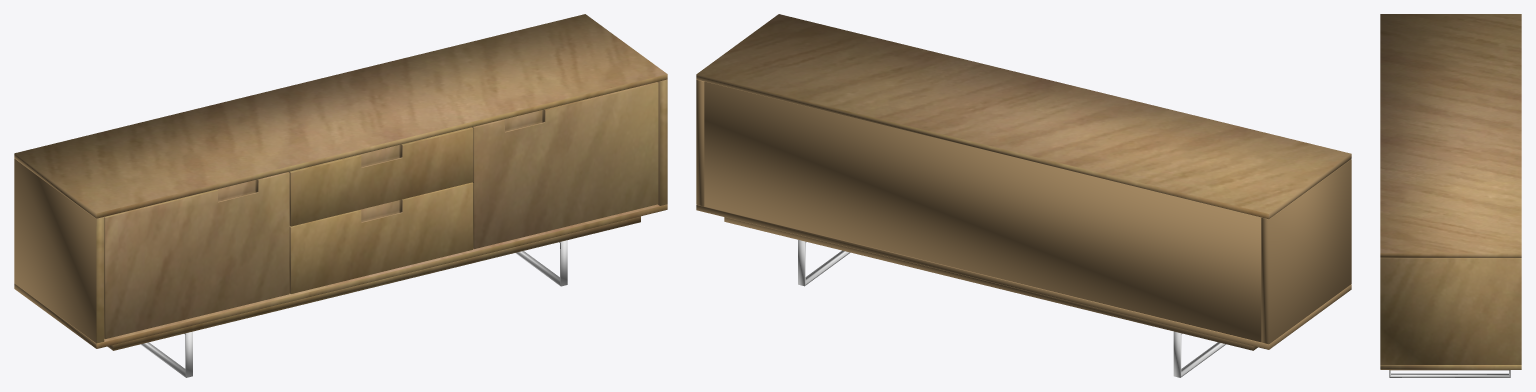
3 renders of one model, left to right at view 1: azimuth 30°, elevation 25°; view 2: azimuth 150°, elevation 25°; view 3: azimuth 270°, elevation 25°, orthographic. The views are drawn at different scales.
Visible parts, largest first — view 1: Dresser 004, Dresser 004_3, Dresser 004_2; view 2: Dresser 004, Dresser 004_2, Dresser 004_3; view 3: Dresser 004, Dresser 004_3.
Part boxes in pixels (x1,y1,x2,y2): Dresser 004: [14, 14, 667, 350]; Dresser 004_3: [515, 240, 567, 286]; Dresser 004_2: [140, 331, 192, 377]; Dresser 004: [696, 14, 1351, 350]; Dresser 004_2: [1173, 331, 1225, 377]; Dresser 004_3: [798, 240, 850, 286]; Dresser 004: [1380, 14, 1521, 370]; Dresser 004_3: [1389, 370, 1510, 377].
Size of the model in its own units: 213 by 68.23 by 53.28.
Materials: 2 (1 with a texture image).
